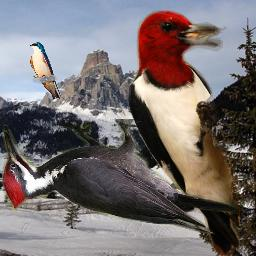Swallow: (29, 42, 61, 99)
Woodpecker: (127, 10, 240, 256), (2, 119, 238, 234)
